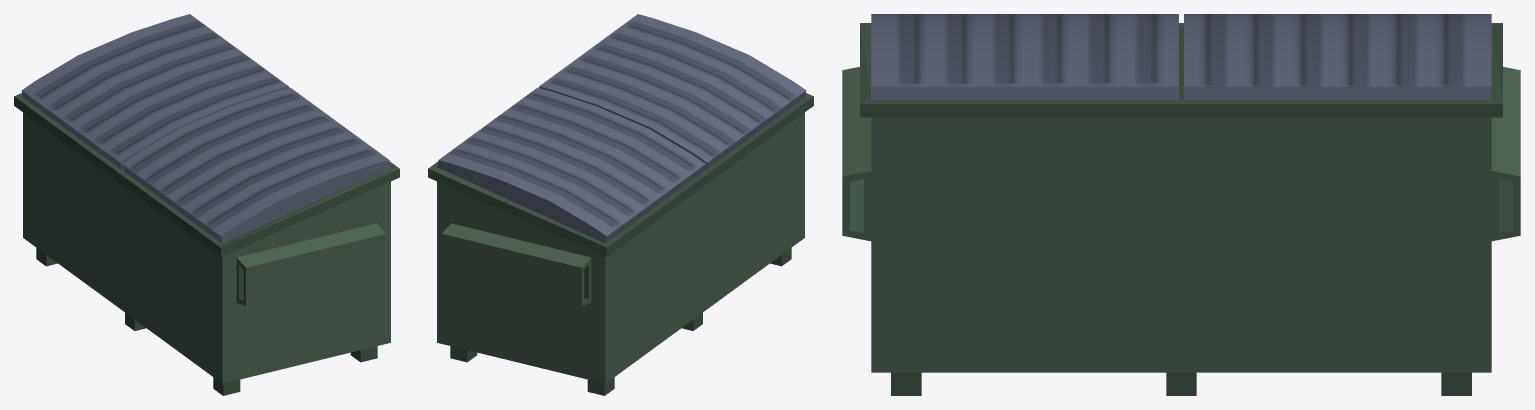
Rendered from rabbish.fbx.
3 views of the same model, side by side, from view 1: azimuth 30°, elevation 25°; view 2: azimuth 150°, elevation 25°; view 3: azimuth 270°, elevation 25° (orthographic). The views are drawn at different scales.
Parts seen in each view (by area): view 1: sptp_dumpster_01; view 2: sptp_dumpster_01; view 3: sptp_dumpster_01.
Boxes of the visible parts, <box> form: sptp_dumpster_01: <box>14,14,399,395</box>; sptp_dumpster_01: <box>428,14,813,395</box>; sptp_dumpster_01: <box>842,14,1520,395</box>.
Size of the model in its own units: 122 by 131 by 257.
1 material, 1 textured.
